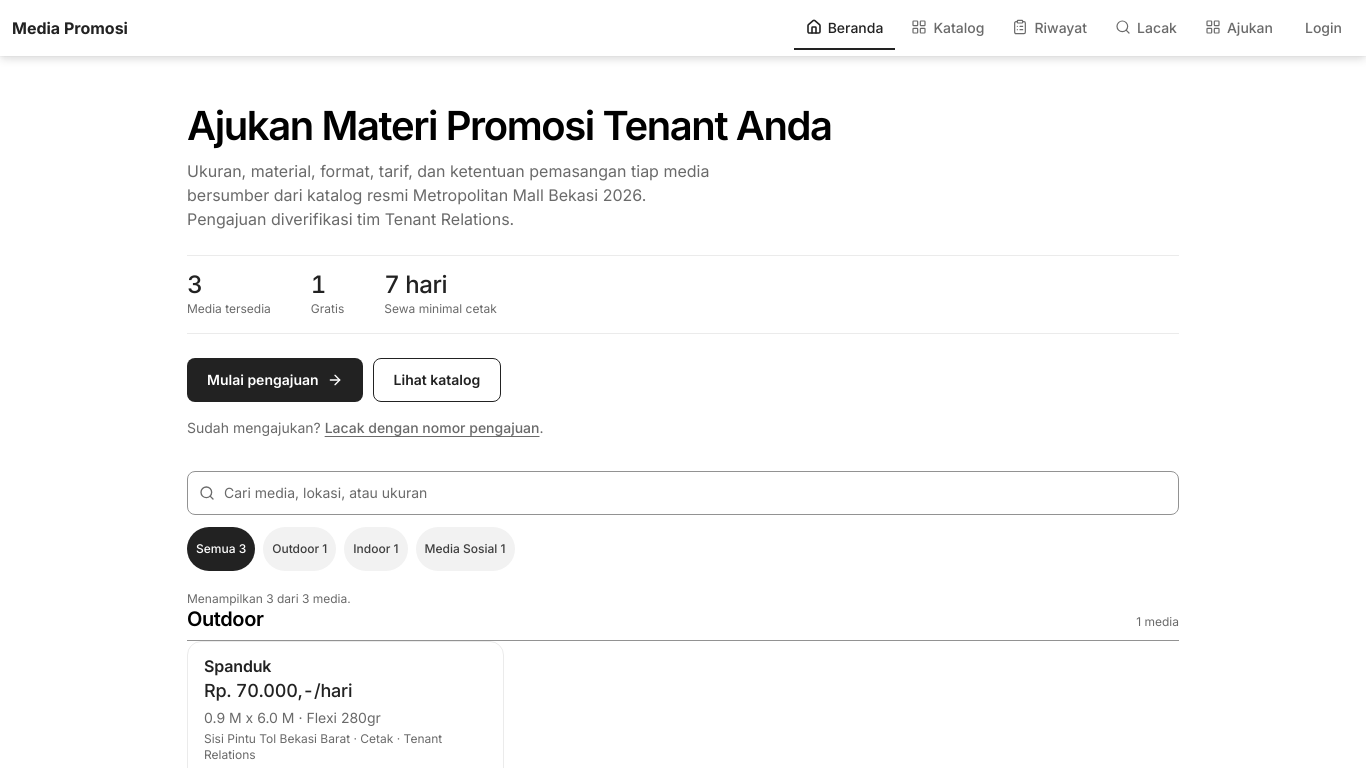
PromoLandingPage - pencarian & filter katalog › catatan jumlah mengikuti filter yang aktif
Expected: the heading "Spanduk" is shown, [204, 656, 271, 676]
Expected: the message shows "Menampilkan 3 dari 3 media", [187, 591, 351, 606]
Click the button "Outdoor 1" at (300, 549), box [263, 527, 336, 571]
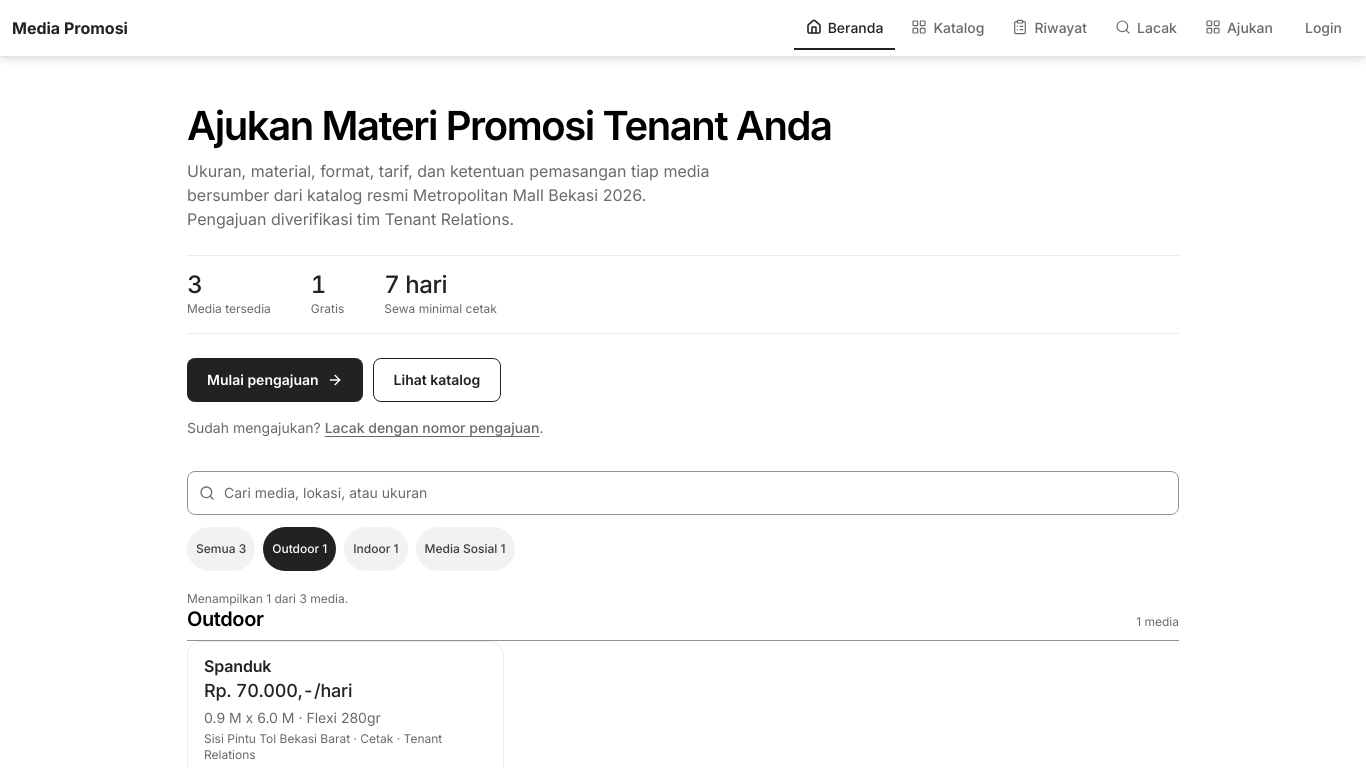
Expected: the message shows "Menampilkan 1 dari 3 media", [187, 591, 348, 606]
